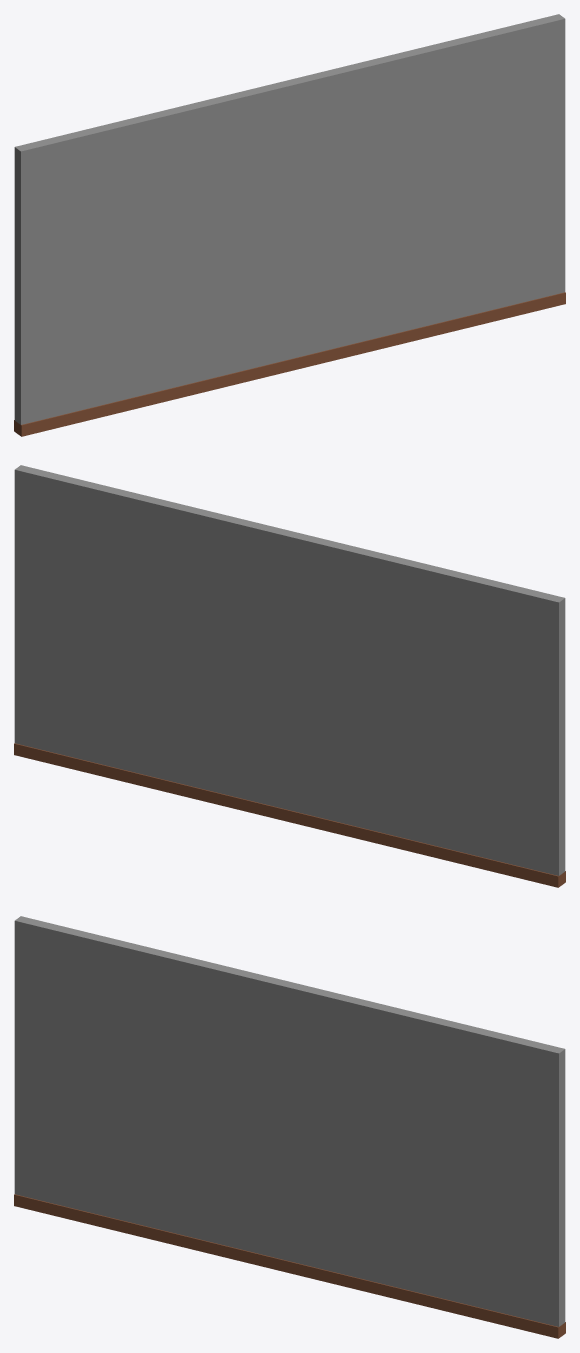
The model's file is Mur04_t1.FBX.
3 views of the same model, one above another, from view 1: azimuth 30°, elevation 25°; view 2: azimuth 150°, elevation 25°; view 3: azimuth 330°, elevation 25° (orthographic).
Parts seen in each view (by area): view 1: mur 100; view 2: mur 100; view 3: mur 100.
Boxes of the visible parts, x1,y1,x2,y2 form: mur 100: (14, 14, 565, 436); mur 100: (14, 465, 565, 887); mur 100: (14, 916, 565, 1338).
Size of the model in its own units: 500 by 250 by 12.
